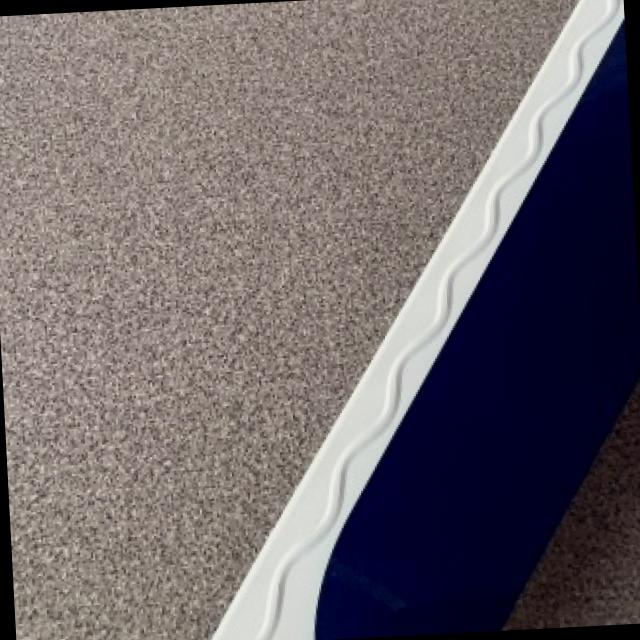healthy: (211, 0, 640, 640), (519, 477, 640, 623)
